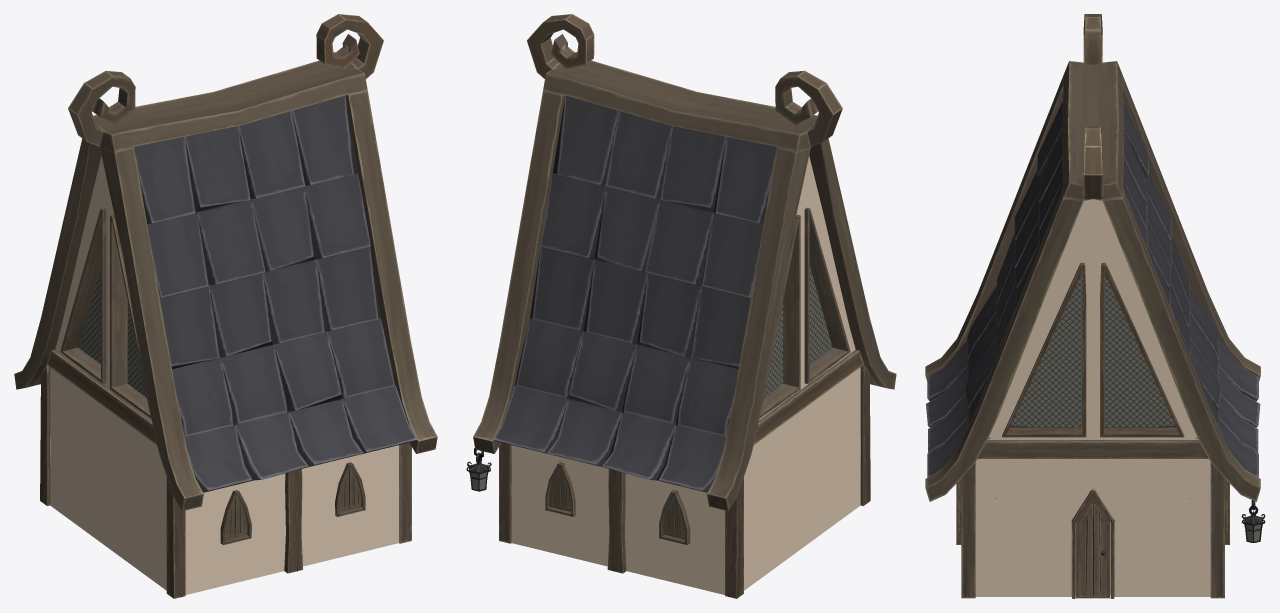
Rendered from House 1.fbx.
3 views of the same model, side by side, from view 1: azimuth 30°, elevation 25°; view 2: azimuth 150°, elevation 25°; view 3: azimuth 270°, elevation 25° (orthographic).
Visible parts, largest first — view 1: House 1; view 2: House 1, Lantern.003; view 3: House 1, Lantern.003.
Part boxes in pixels (<box>): House 1: <box>14,14,437,598</box>; House 1: <box>473,14,896,598</box>; Lantern.003: <box>466,448,491,491</box>; House 1: <box>925,14,1260,598</box>; Lantern.003: <box>1241,500,1265,542</box>.
Bounding box in the file's own units: 1492 × 2213 × 1455.
